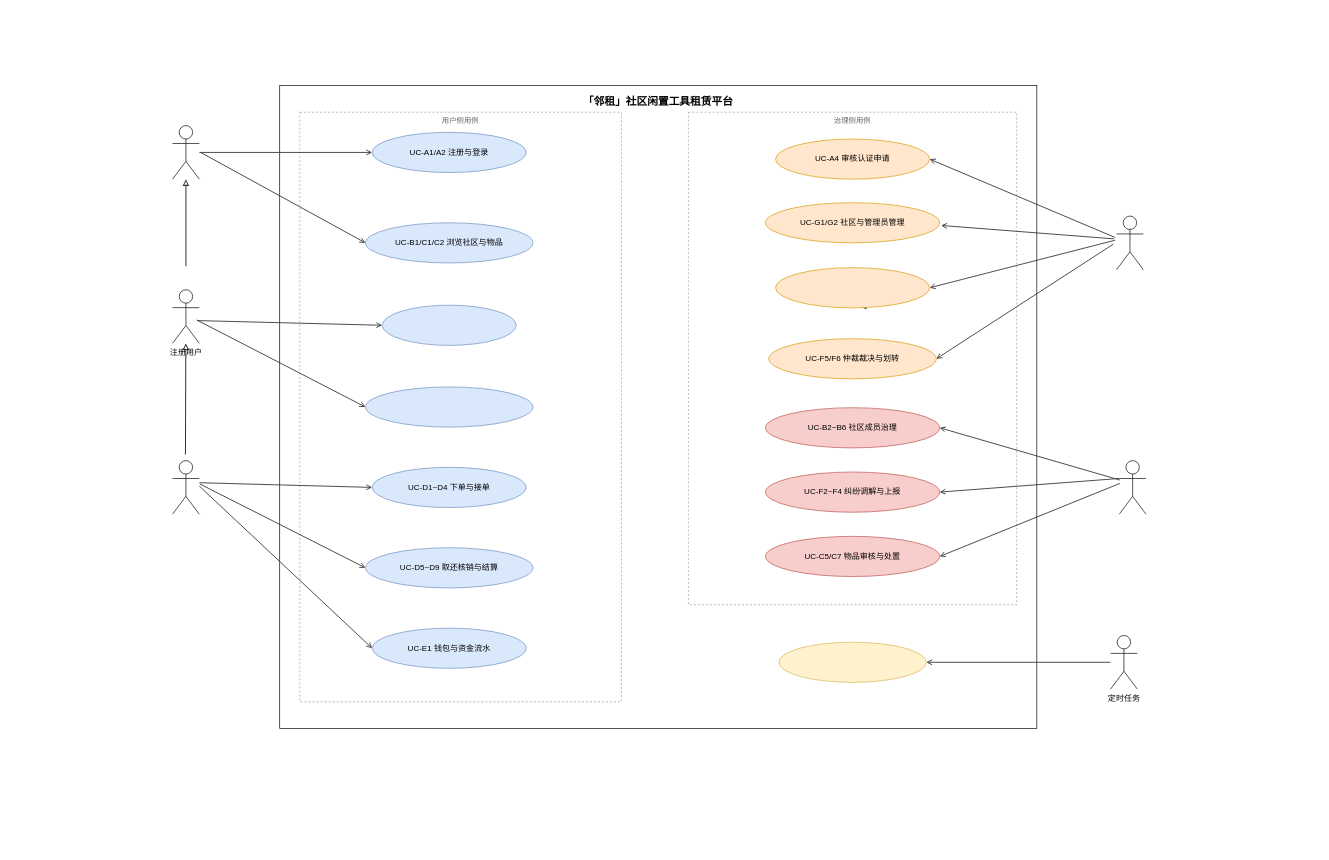
Some shapes in this 1329 by 860 pixel diagram are drawn without their labels. The shapes that lost their labels are listed below. From the top down, each one's centre as x and y in pixels, then its label:
At pixel 185 152: "游客".
At pixel 1129 242: "系统管理员".
At pixel 852 287: "UC-G3 封禁/解封账号".
At pixel 449 325: "UC-C3 收藏物品".
At pixel 449 406: "UC-C4/C6 发布与管理物品".
At pixel 185 487: "认证用户".
At pixel 1132 487: "社区管理员".
At pixel 852 662: "UC-D10 逾期提醒与标记".
